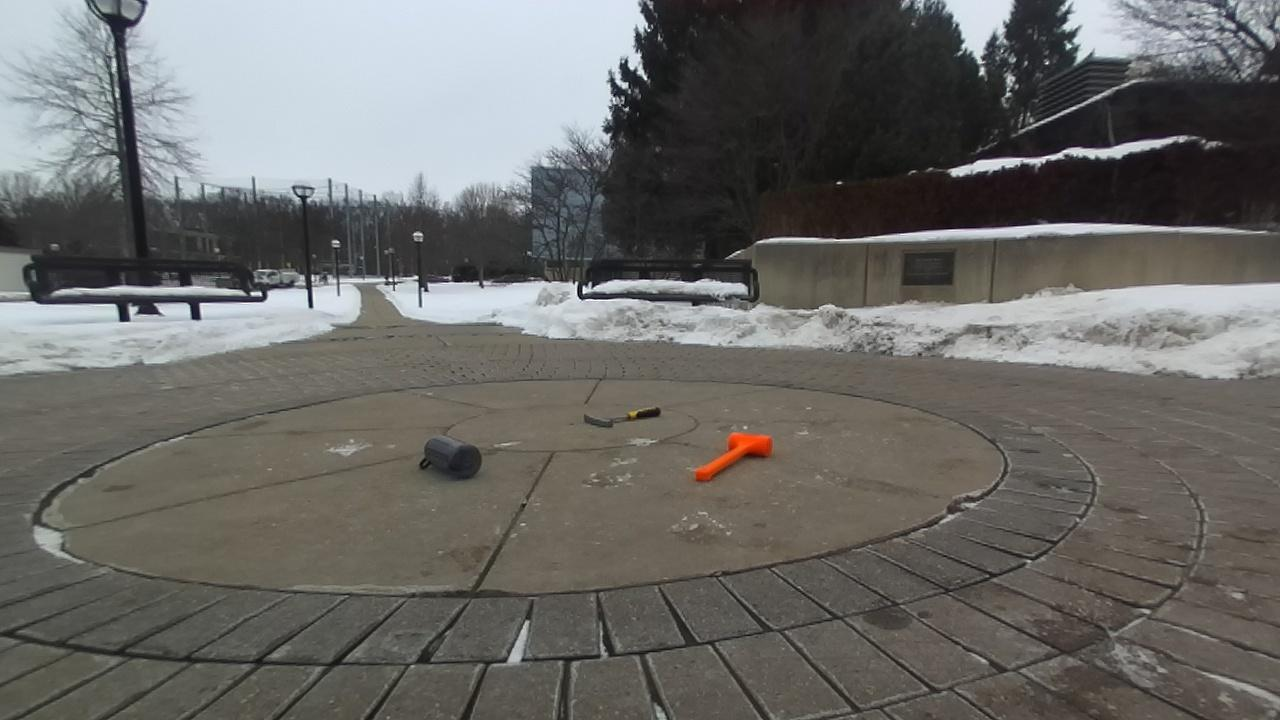bottle: (420, 436, 481, 478)
mallet: (697, 435, 771, 480)
pick: (584, 407, 660, 426)
